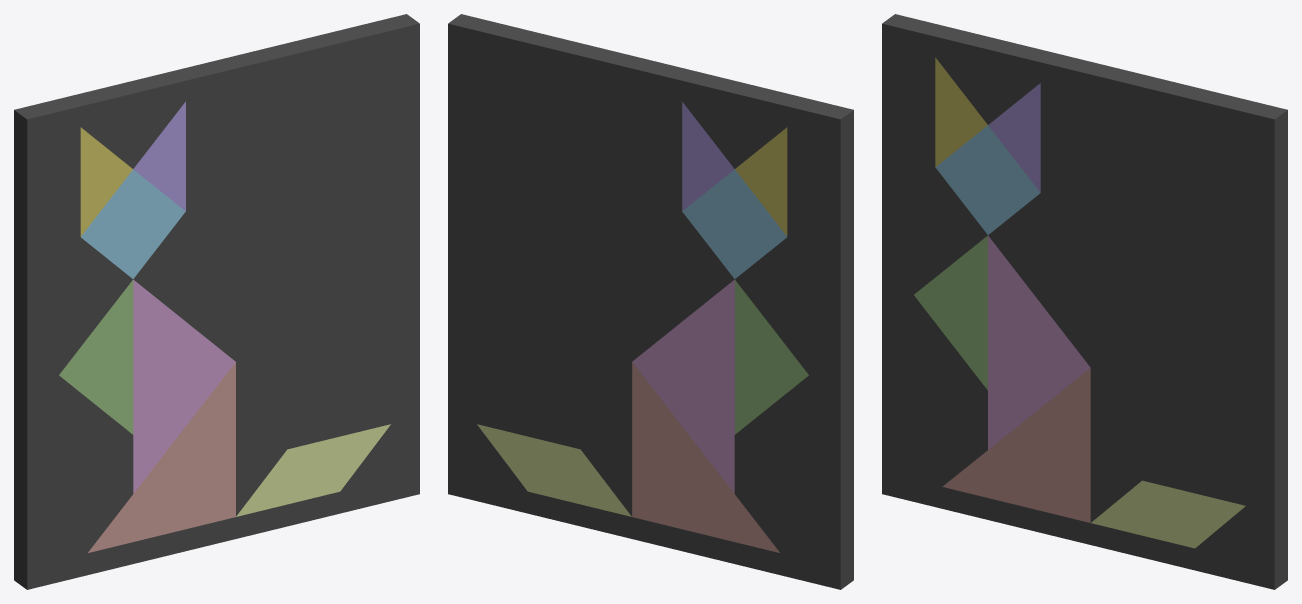
The model's file is Gato.fbx.
3 views of the same model, side by side, from view 1: azimuth 30°, elevation 25°; view 2: azimuth 150°, elevation 25°; view 3: azimuth 330°, elevation 25° (orthographic).
Parts seen in each view (by area): view 1: polySurface44, polySurface51, polySurface50, polySurface49, polySurface52, polySurface46, polySurface48, polySurface47; view 2: polySurface44, polySurface51, polySurface50, polySurface52, polySurface46, polySurface49, polySurface48, polySurface47; view 3: polySurface44, polySurface51, polySurface50, polySurface52, polySurface46, polySurface49, polySurface48, polySurface47.
Part boxes in pixels (box(x1,y1,x2,y2)): polySurface44: box(14, 14, 419, 589); polySurface51: box(88, 362, 235, 552); polySurface50: box(133, 280, 235, 493); polySurface49: box(59, 279, 133, 434); polySurface52: box(81, 169, 185, 278); polySurface46: box(236, 424, 390, 516); polySurface48: box(80, 127, 132, 236); polySurface47: box(133, 101, 185, 211); polySurface44: box(448, 14, 853, 589); polySurface51: box(632, 362, 779, 552); polySurface50: box(632, 279, 734, 493); polySurface52: box(682, 169, 786, 278); polySurface46: box(477, 424, 631, 516); polySurface49: box(735, 280, 808, 434); polySurface48: box(735, 127, 787, 236); polySurface47: box(682, 102, 734, 210); polySurface44: box(882, 14, 1287, 589); polySurface51: box(942, 368, 1090, 522); polySurface50: box(988, 235, 1090, 449); polySurface52: box(935, 125, 1040, 234); polySurface46: box(1091, 480, 1245, 548); polySurface49: box(914, 235, 987, 390); polySurface48: box(935, 57, 987, 166); polySurface47: box(988, 83, 1040, 192).
Size of the model in its own units: 4.53 by 5.18 by 0.263.
